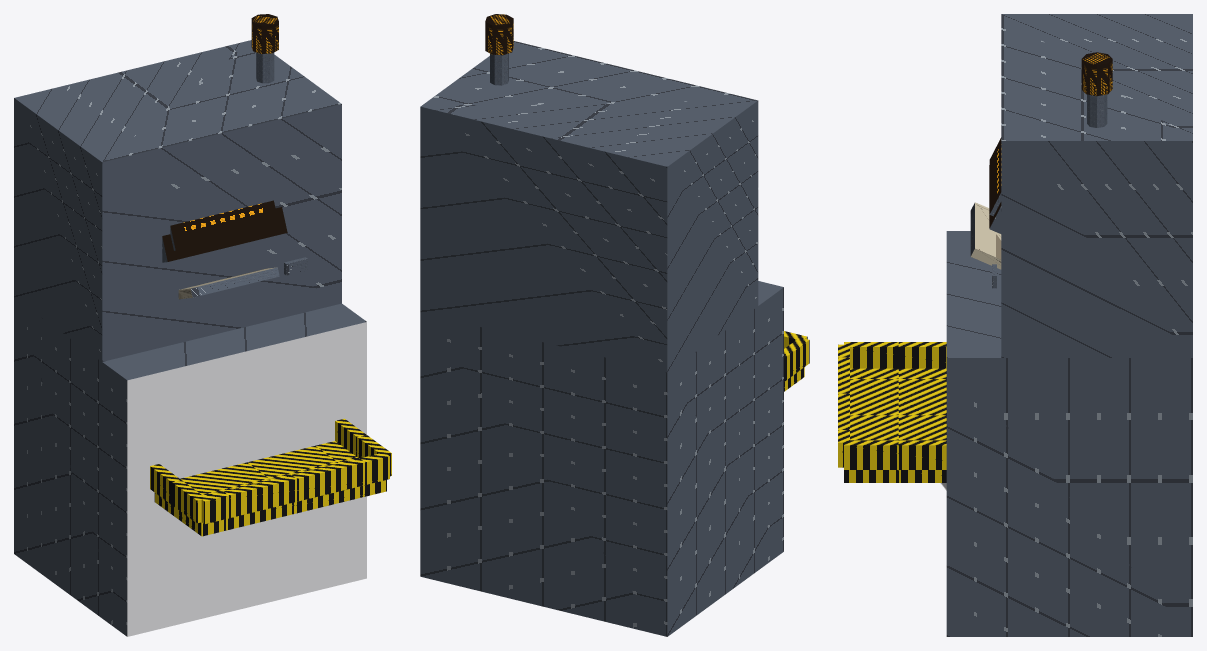
Rendered from part_dispenser.glb.
3 views of the same model, side by side, from view 1: azimuth 30°, elevation 25°; view 2: azimuth 150°, elevation 25°; view 3: azimuth 270°, elevation 25° (orthographic). The views are drawn at different scales.
Visible parts, largest first — view 1: part_dispenser; view 2: part_dispenser; view 3: part_dispenser.
Part boxes in pixels (x1=…): part_dispenser: x1=14, y1=14, x2=391, y2=636; part_dispenser: x1=420, y1=14, x2=809, y2=636; part_dispenser: x1=838, y1=14, x2=1192, y2=636.
Size of the model in its own units: 0.88 by 1.81 by 1.04.
Materials: 5 (4 with a texture image).
